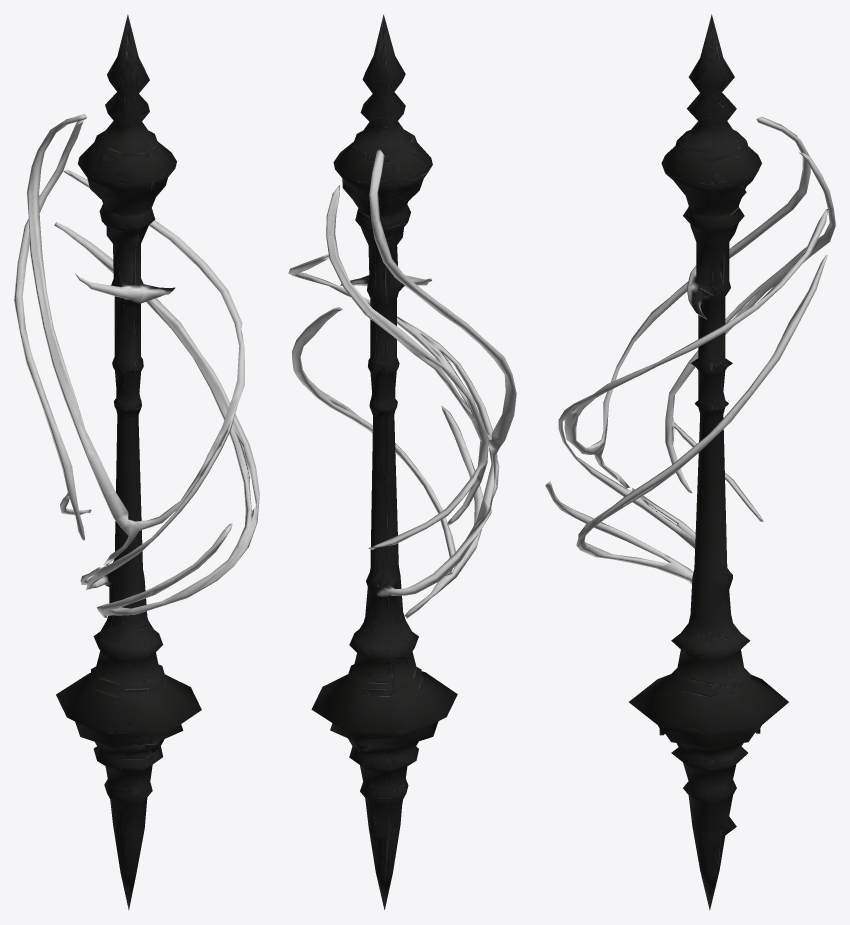
The model's file is rod_wisp.glb.
The picture shows the model from 3 angles, left to right: view 1: azimuth 30°, elevation 25°; view 2: azimuth 150°, elevation 25°; view 3: azimuth 270°, elevation 25°; orthographic projection.
Parts seen in each view (by area): view 1: base_model_path; view 2: base_model_path; view 3: base_model_path.
Boxes of the visible parts, <box> form: base_model_path: <box>14,14,259,910</box>; base_model_path: <box>288,14,516,909</box>; base_model_path: <box>545,14,835,910</box>.
Bounding box in the file's own units: 0.2092 × 0.9994 × 0.2933.
1 material, 1 textured.
